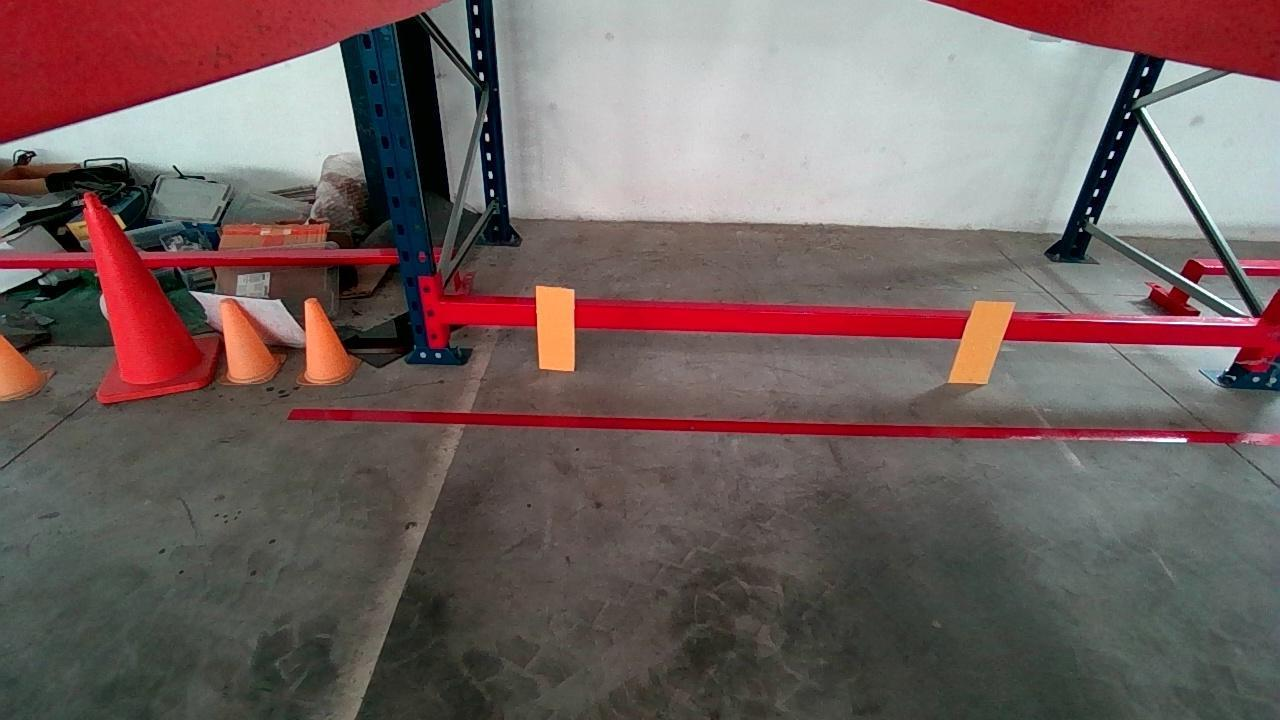h_rack: (438, 301, 1265, 348)
orange_strip: (947, 303, 1019, 384), (535, 285, 576, 371)
red_line: (288, 404, 1280, 444)
